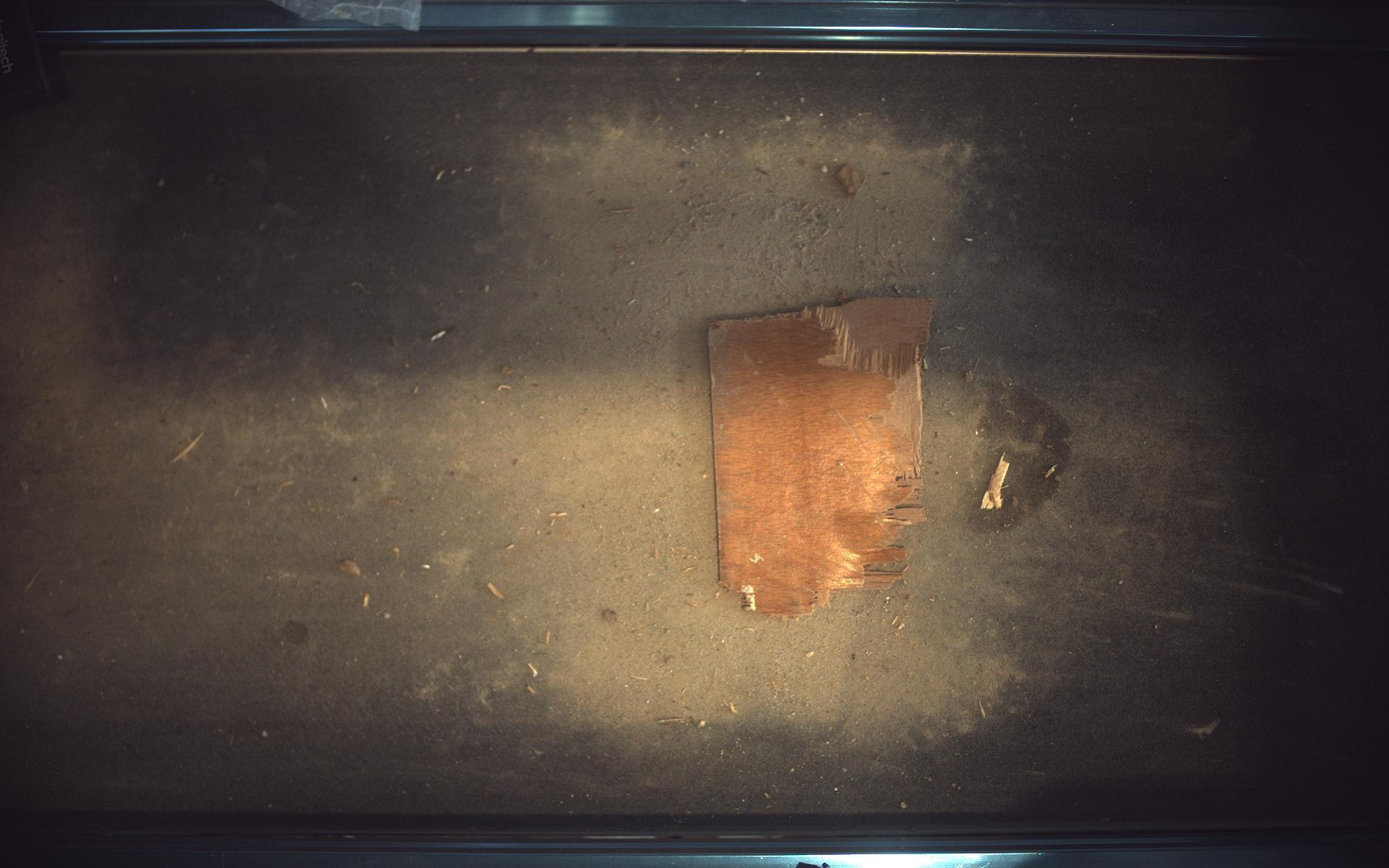wood: (710, 297, 935, 616)
